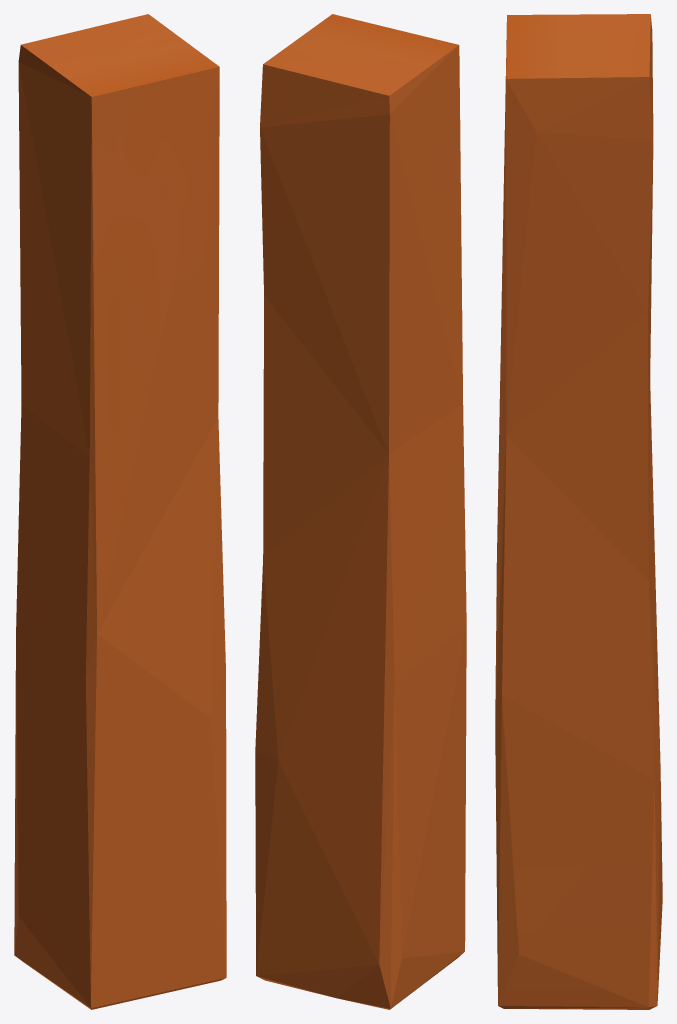
Rendered from Post.fbx.
3 renders of one model, left to right at view 1: azimuth 30°, elevation 25°; view 2: azimuth 150°, elevation 25°; view 3: azimuth 270°, elevation 25°, orthographic.
Parts seen in each view (by area): view 1: Post; view 2: Post; view 3: Post.
Part boxes in pixels (x1,y1,x2,y2): Post: (14,14,226,1009); Post: (255,14,466,1009); Post: (495,14,662,1009).
Size of the model in its own units: 0.487 by 3 by 0.487.
